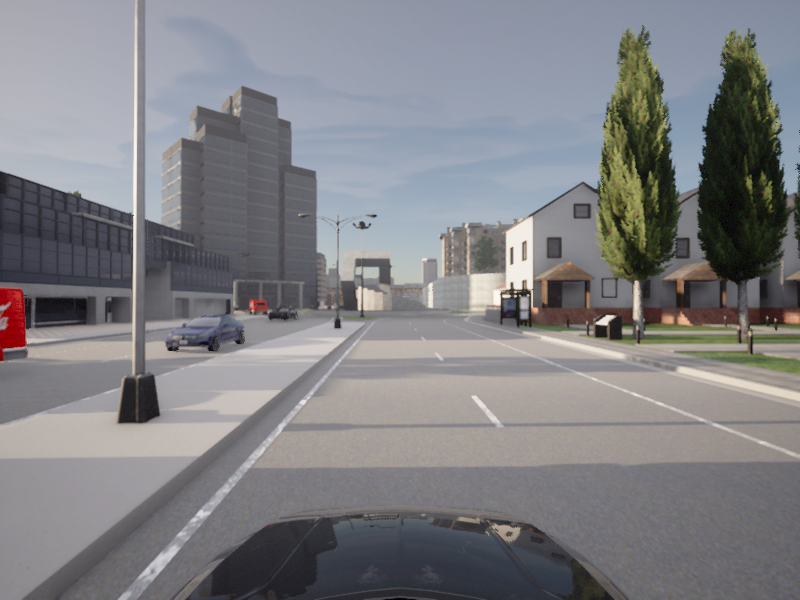vehicle: (0, 271, 34, 429), (159, 313, 250, 354), (264, 305, 300, 321)
